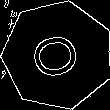O_E: (27, 28, 88, 83)
